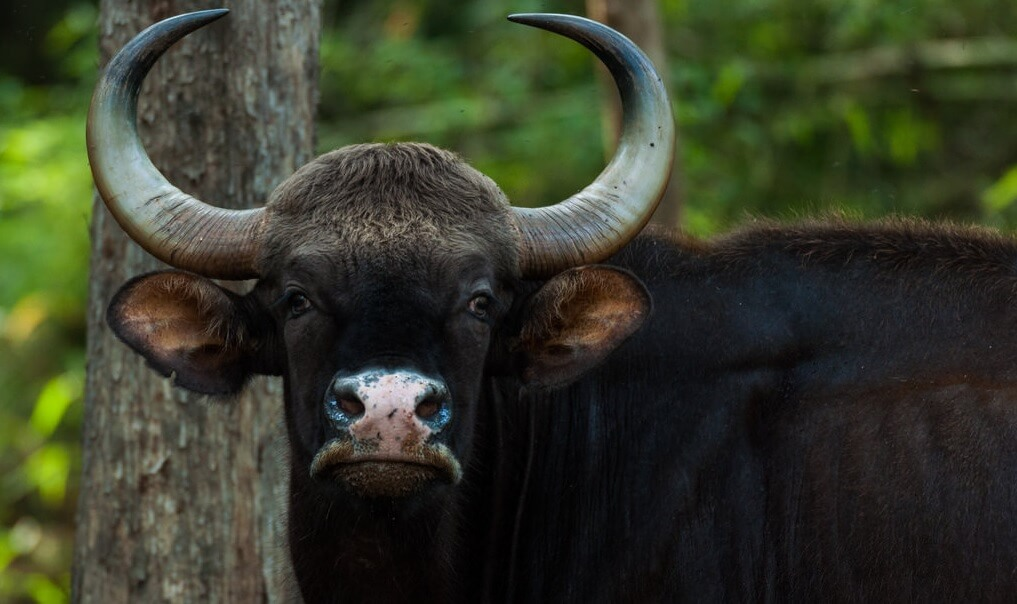bison: (74, 8, 1016, 597)
